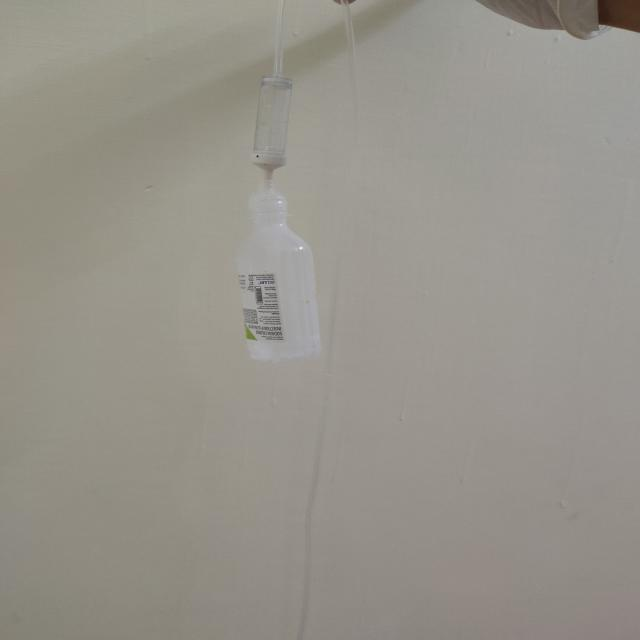B3: (238, 180, 322, 362)
